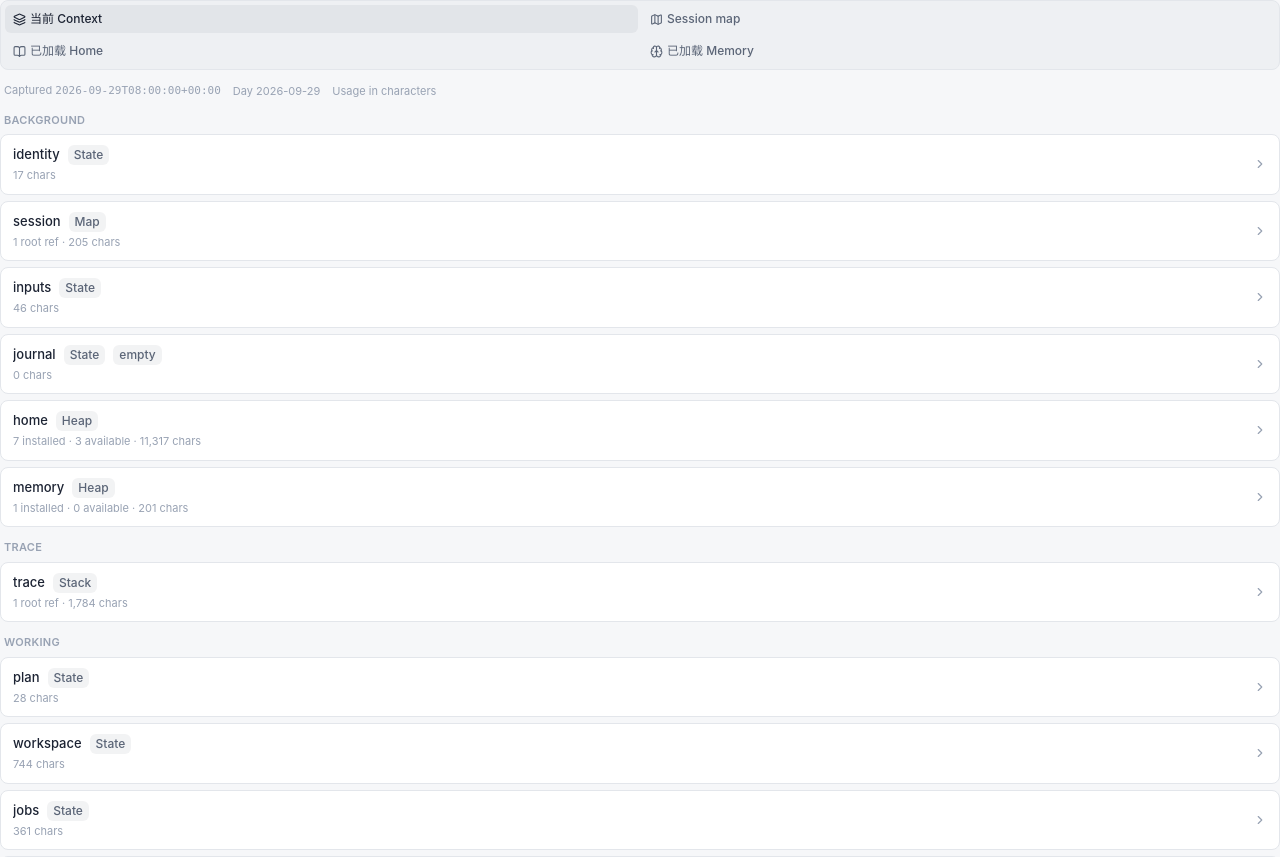
it: openContextDrawer › pushes the selected segment and reads its body only then
Click the button "home Heap 7 installed · 3 available · 11,317 chars" at x=30, y=420, box [0, 400, 1279, 460]
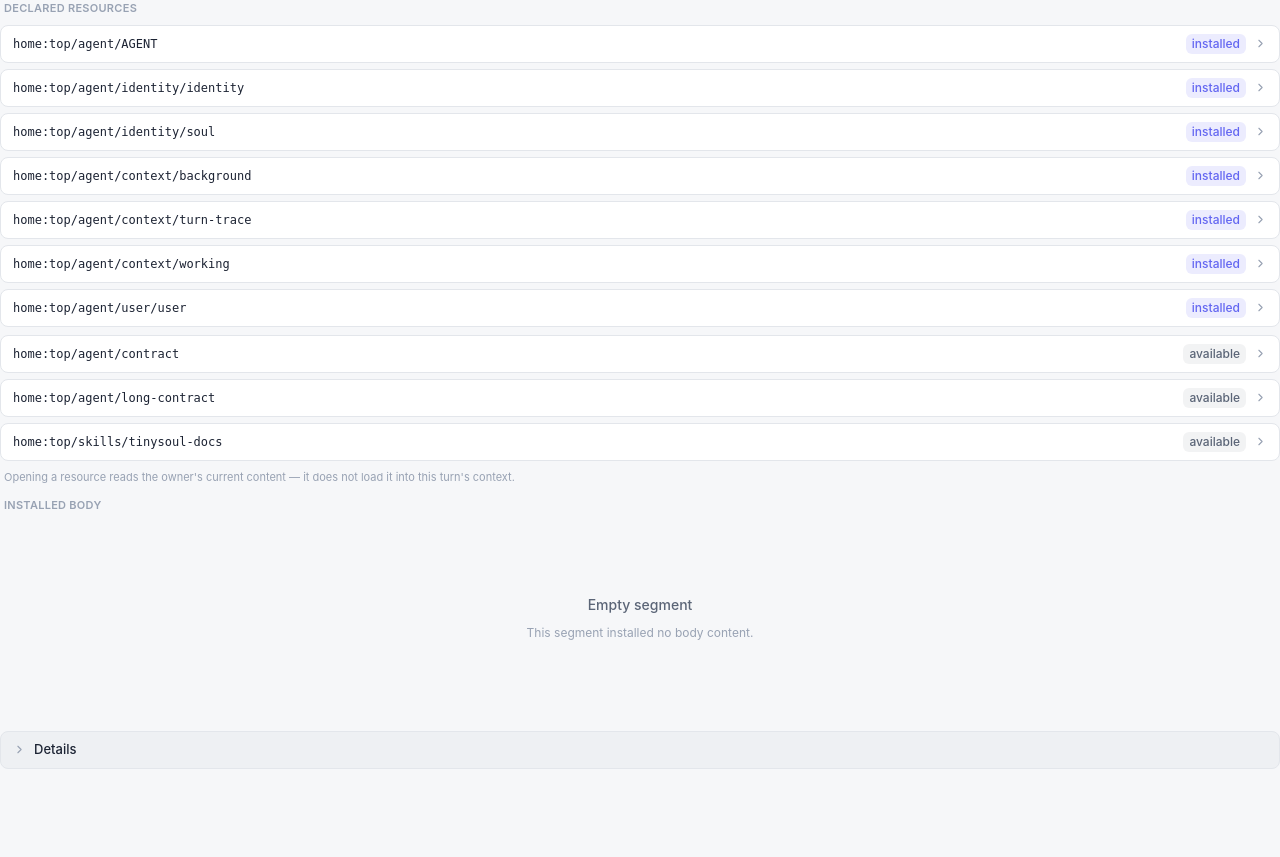
Check: the text "Installed body" is shown, box [4, 498, 102, 512]
